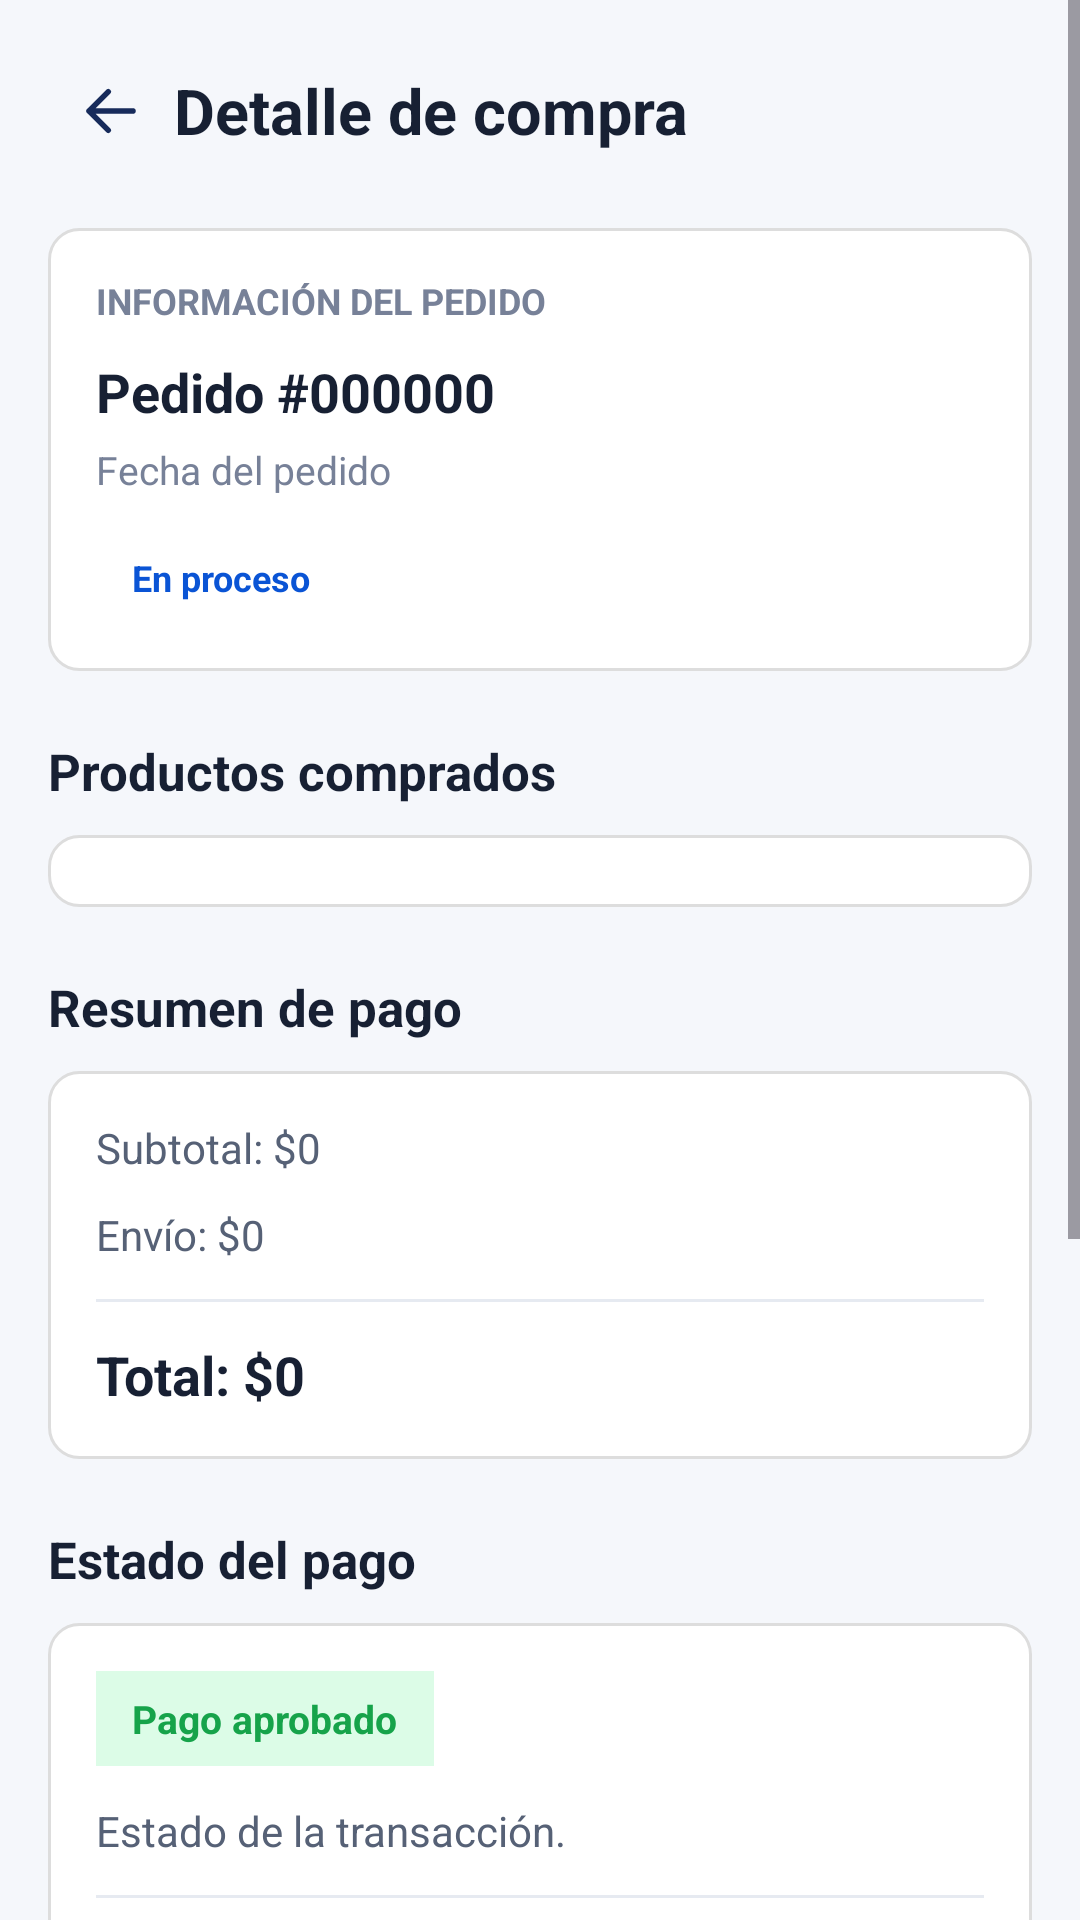

Point at icon controls on the screen. Image size 1080px×1920px, points as (x=x, y=y).
Volver: (x=111, y=111)
